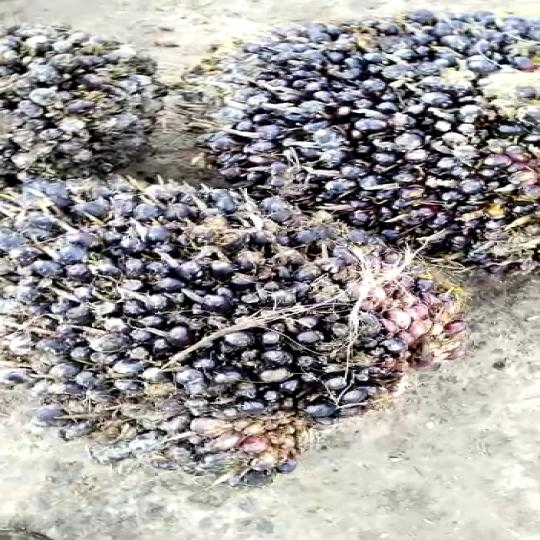mentah: (1, 164, 475, 486), (157, 6, 540, 298)
